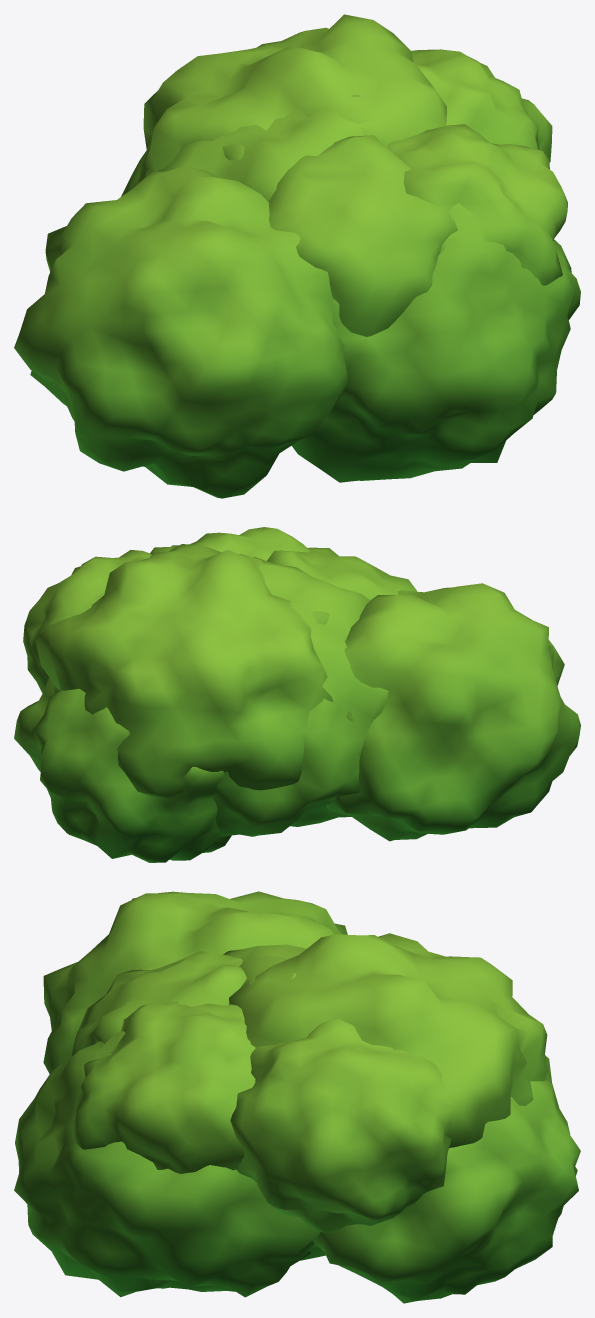
File: bush_b.glb
3 views of the same model, one above another, from view 1: azimuth 30°, elevation 25°; view 2: azimuth 150°, elevation 25°; view 3: azimuth 270°, elevation 25° (orthographic). The views are drawn at different scales.
Visible parts, largest first — view 1: bush_b; view 2: bush_b; view 3: bush_b.
Boxes of the visible parts, x1,y1,x2,y2 form: bush_b: (14, 14, 580, 498); bush_b: (14, 527, 580, 862); bush_b: (14, 891, 580, 1303).
Bounding box in the file's own units: 3.46 × 2.08 × 3.04.
